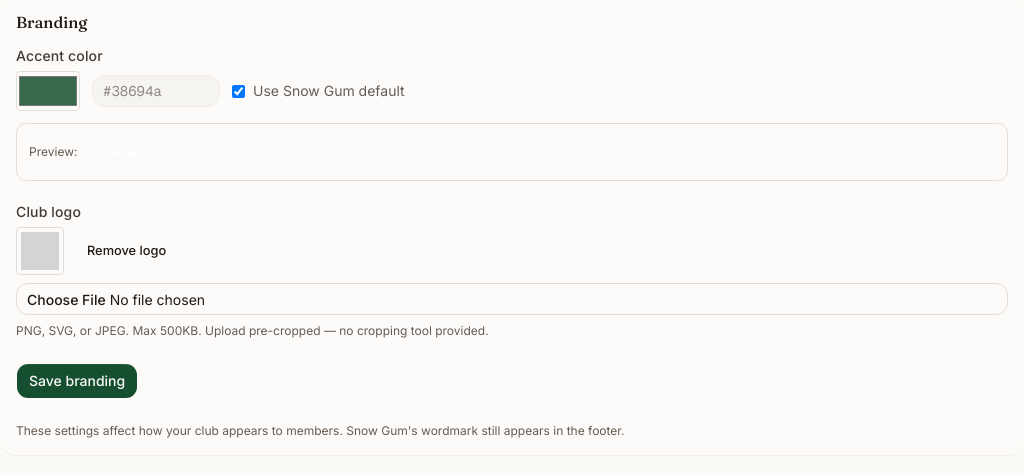
BrandingSettingsForm › (c) removeLogo toggle shows/hides undo affordance › clicking 'Undo' hides the undo affordance and shows Remove logo again
Click the button "Remove logo".
click(127, 251)  # box x1=76 y1=235 x2=177 y2=267
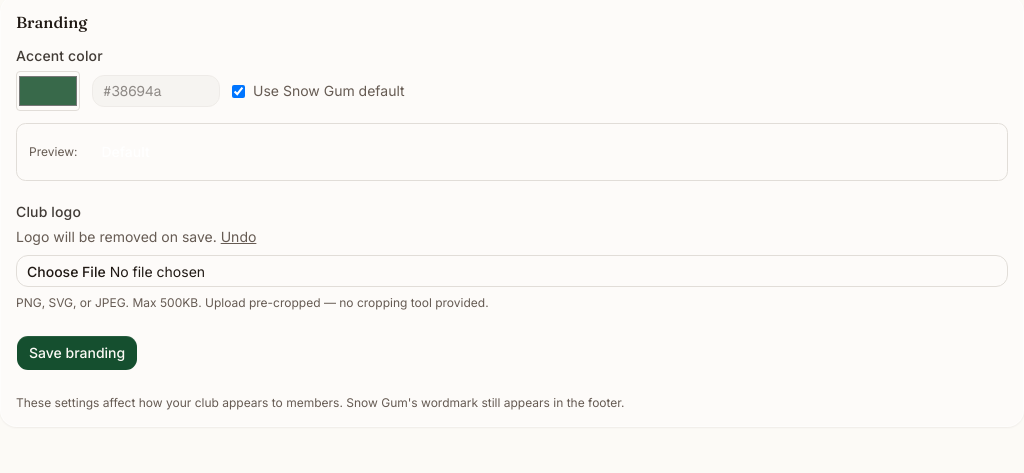
Click the button "Undo".
click(239, 237)  # box x1=221 y1=227 x2=256 y2=247
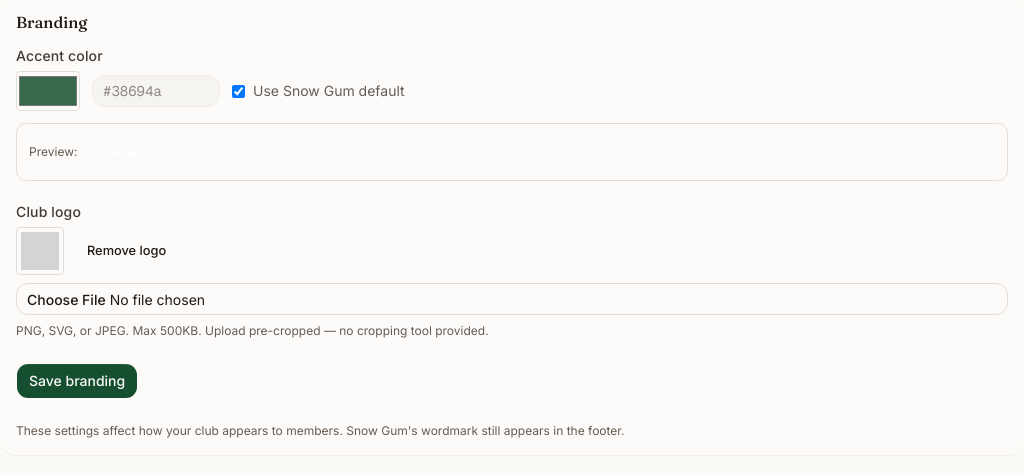
Now the button "Remove logo" is shown, box x1=76 y1=235 x2=177 y2=267
